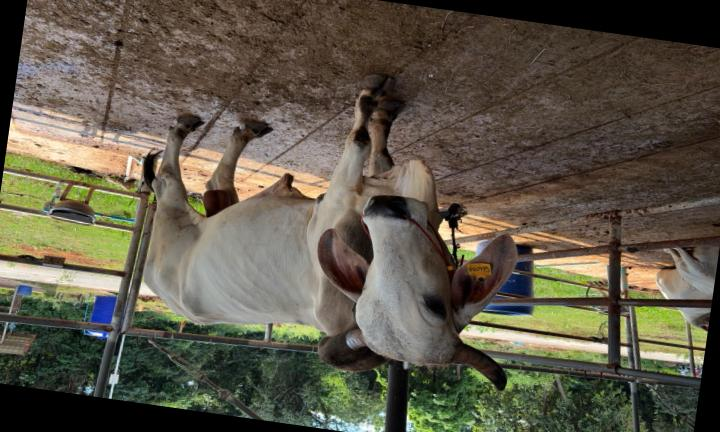Brahman: (144, 75, 516, 390)
